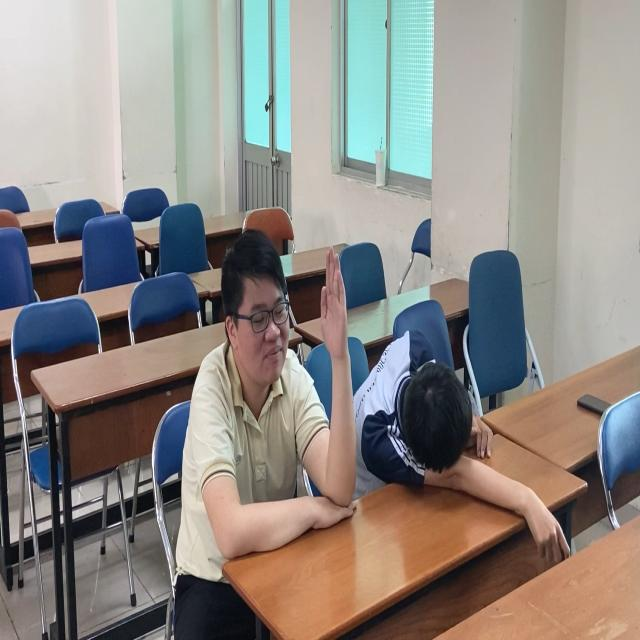raise_hand: (189, 233, 359, 582)
sleep: (358, 316, 571, 564)
